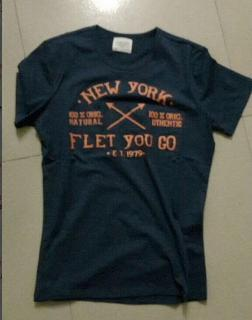short sleeve top: (14, 24, 252, 305)
